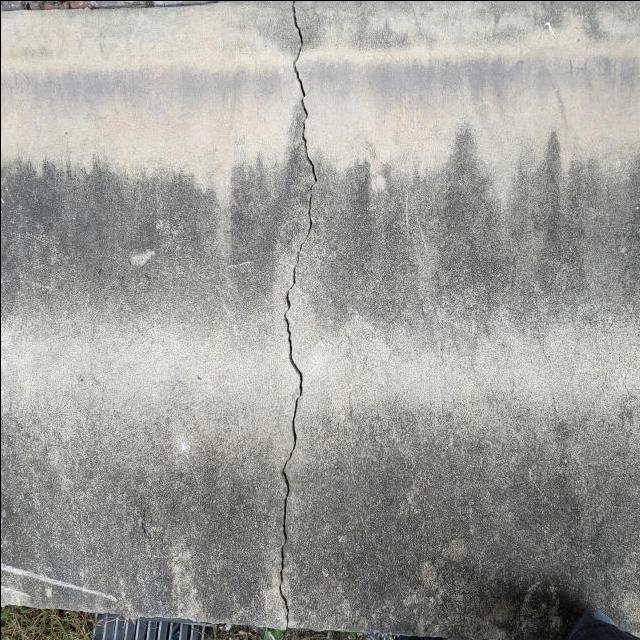SurfaceCrack: (241, 3, 352, 616)
